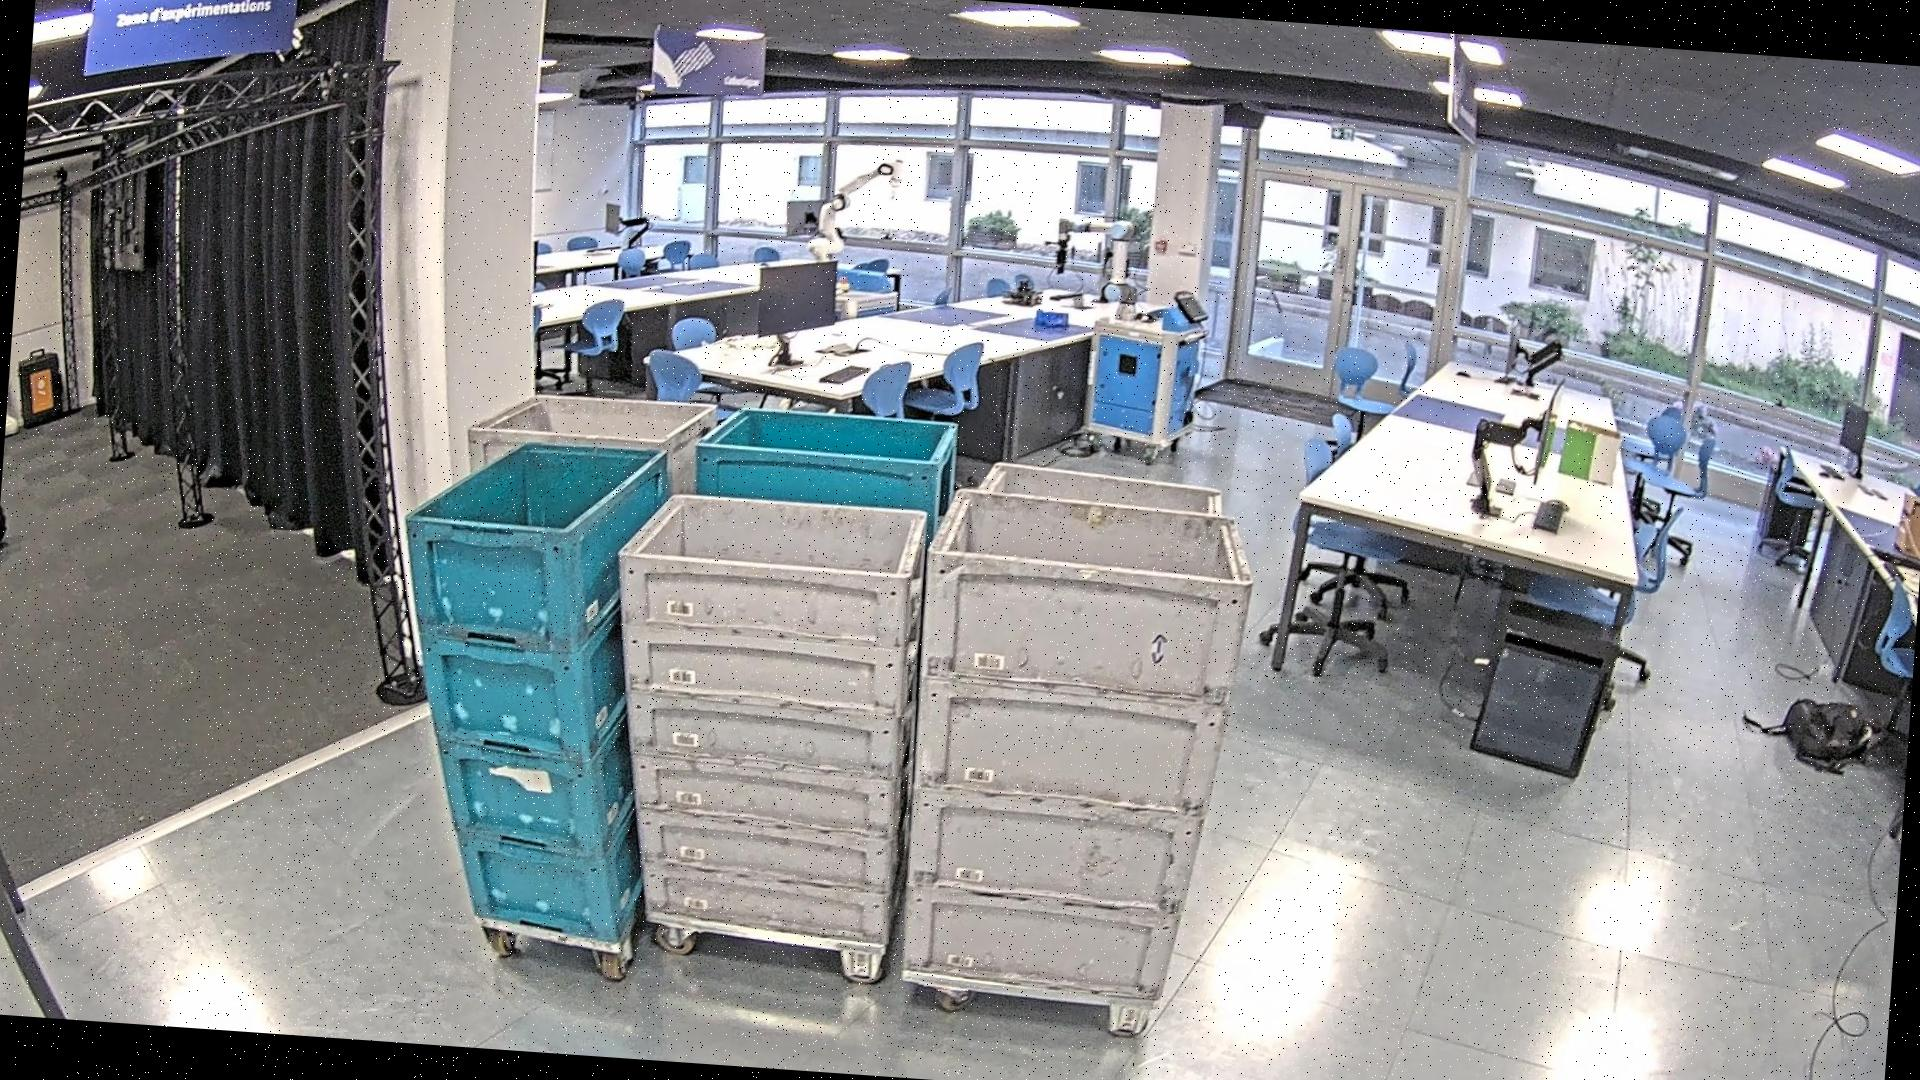Box3G: (590, 480, 936, 944), (919, 455, 1235, 943)
Box4G: (894, 480, 1266, 1010), (434, 384, 732, 878)
BoxB4: (370, 433, 708, 941), (661, 396, 962, 902)
